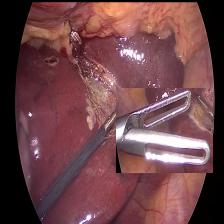Grasper: (115, 87, 211, 171), (99, 88, 129, 135)
